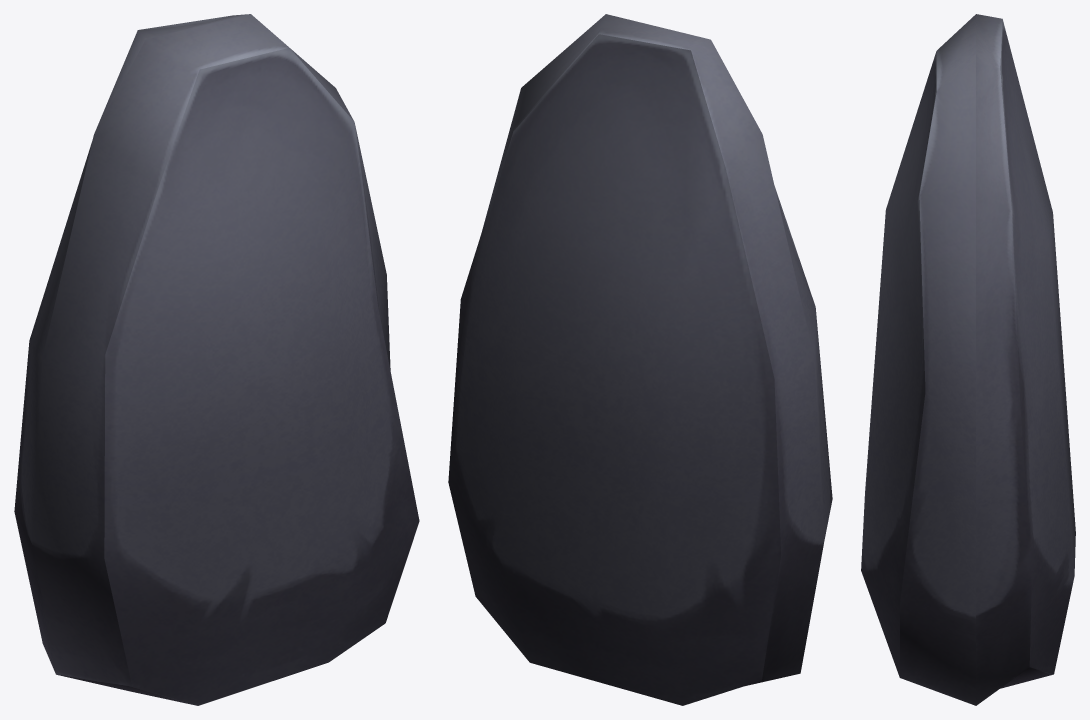
File: tall_rock_runic.FBX
The picture shows the model from 3 angles, left to right: view 1: azimuth 30°, elevation 25°; view 2: azimuth 150°, elevation 25°; view 3: azimuth 270°, elevation 25°; orthographic projection. The views are drawn at different scales.
Parts seen in each view (by area): view 1: Box001; view 2: Box001; view 3: Box001.
Boxes of the visible parts, x1,y1,x2,y2 form: Box001: (14, 14, 419, 705); Box001: (448, 14, 832, 705); Box001: (861, 14, 1075, 705).
Size of the model in its own units: 2.33 by 3.98 by 1.26.
1 material, 1 textured.
